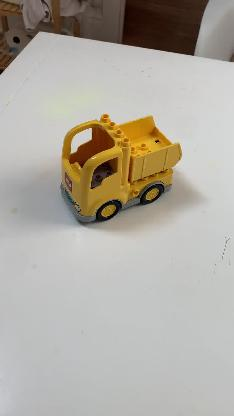yellow dump truck: (60, 112, 183, 222)
